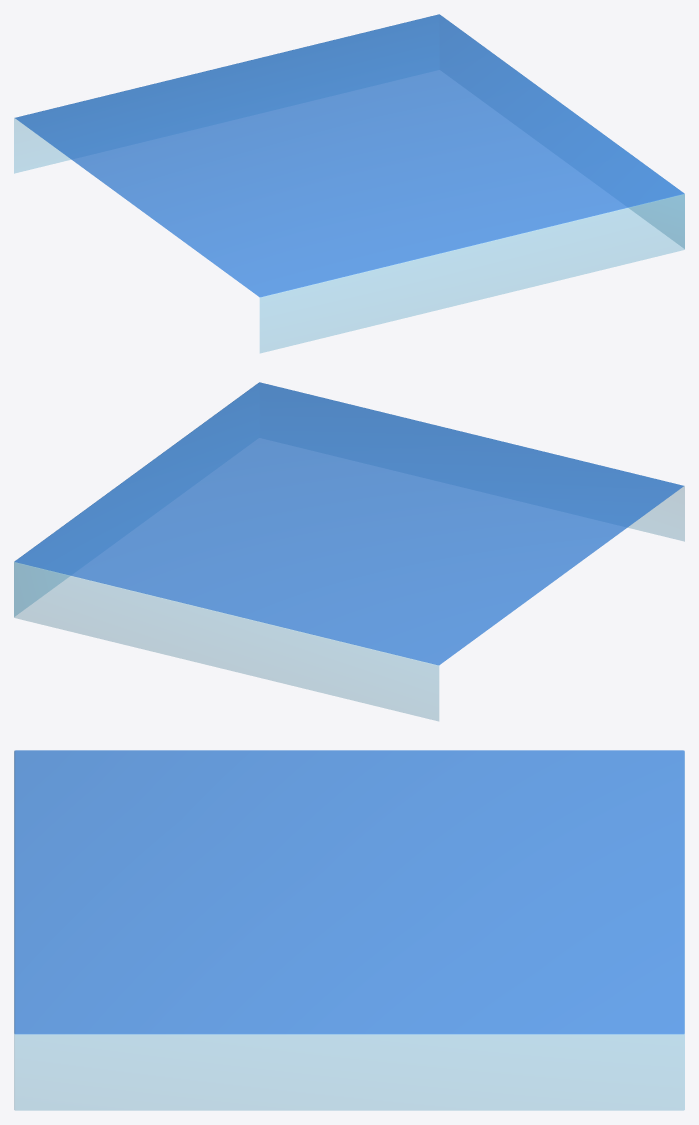
The model's file is DioWater_01.fbx.
The picture shows the model from 3 angles, top to bottom: view 1: azimuth 30°, elevation 25°; view 2: azimuth 150°, elevation 25°; view 3: azimuth 270°, elevation 25°; orthographic projection. The views are drawn at different scales.
Parts seen in each view (by area): view 1: DioWater_01; view 2: DioWater_01; view 3: DioWater_01.
Part boxes in pixels (x1=…): DioWater_01: x1=14, y1=14, x2=684, y2=352; DioWater_01: x1=14, y1=382, x2=684, y2=720; DioWater_01: x1=14, y1=750, x2=684, y2=1110.
Bounding box in the file's own units: 1000 × 126 × 1000.
